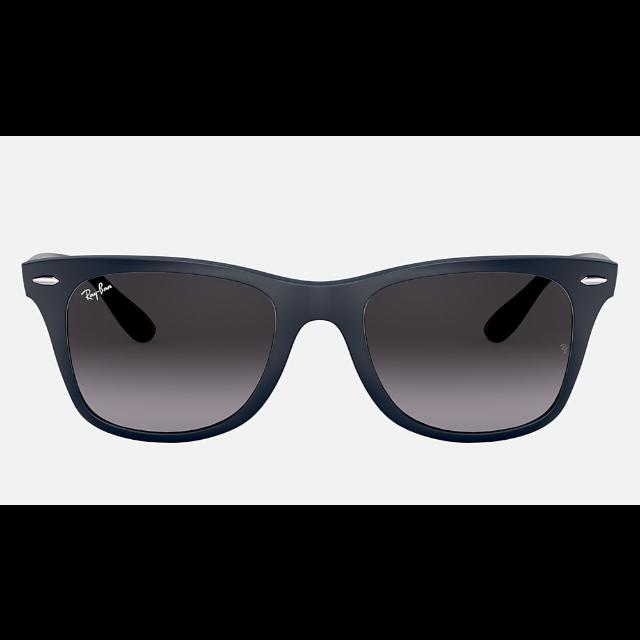Sunglasses: (22, 251, 618, 443)
